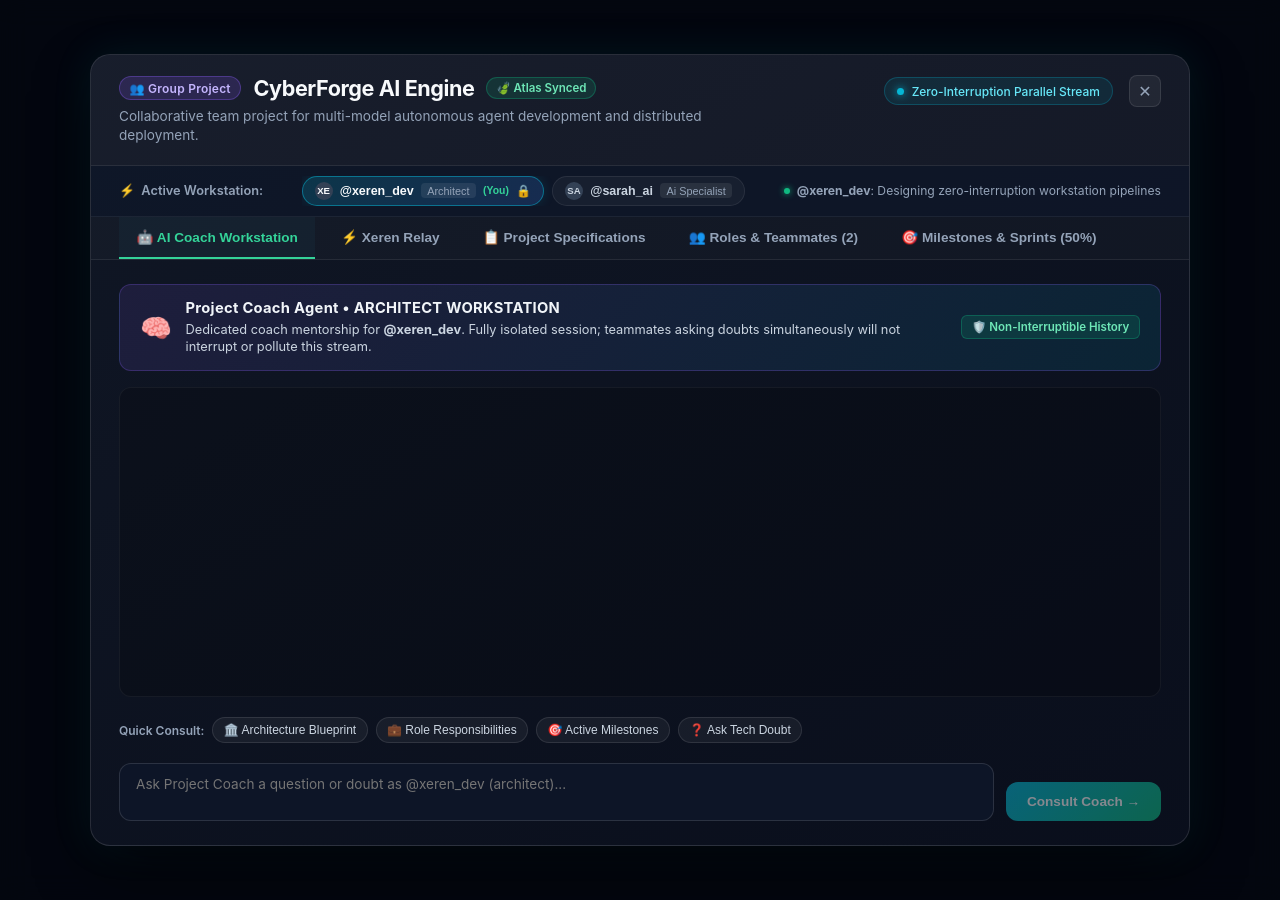
Test: Project Workspace, Dedicated AI Coach, and Workstation Isolation › switches to peer workstation (@sarah_ai) and loads isolated session history
Note: Click on Sarah's workstation tab
Click the button "SA @sarah_ai ai specialist".
click(649, 191)  # box [552, 176, 745, 206]
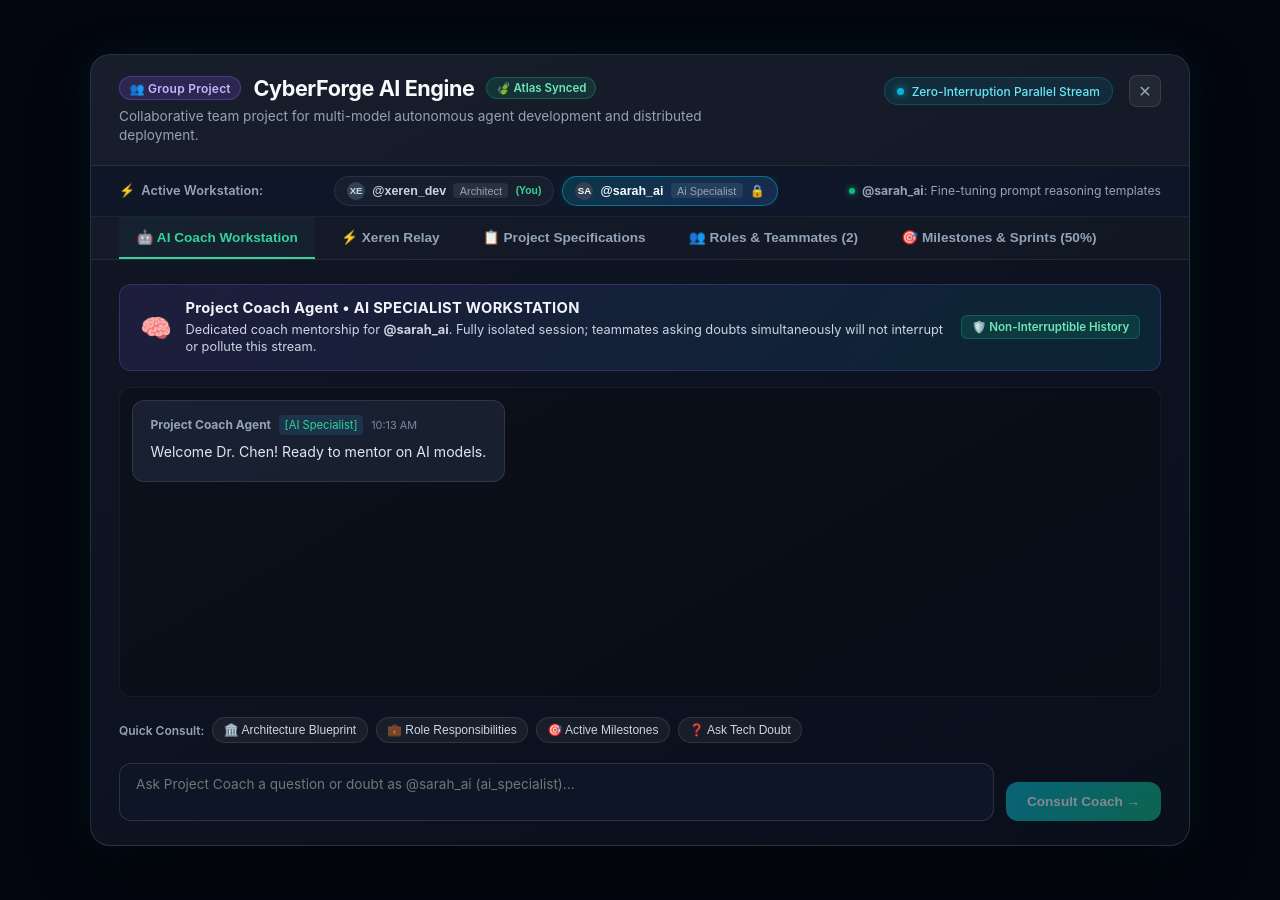
Expected: the text "Welcome Dr. Chen! Ready to mentor on AI models." is shown, [151, 441, 486, 462]
